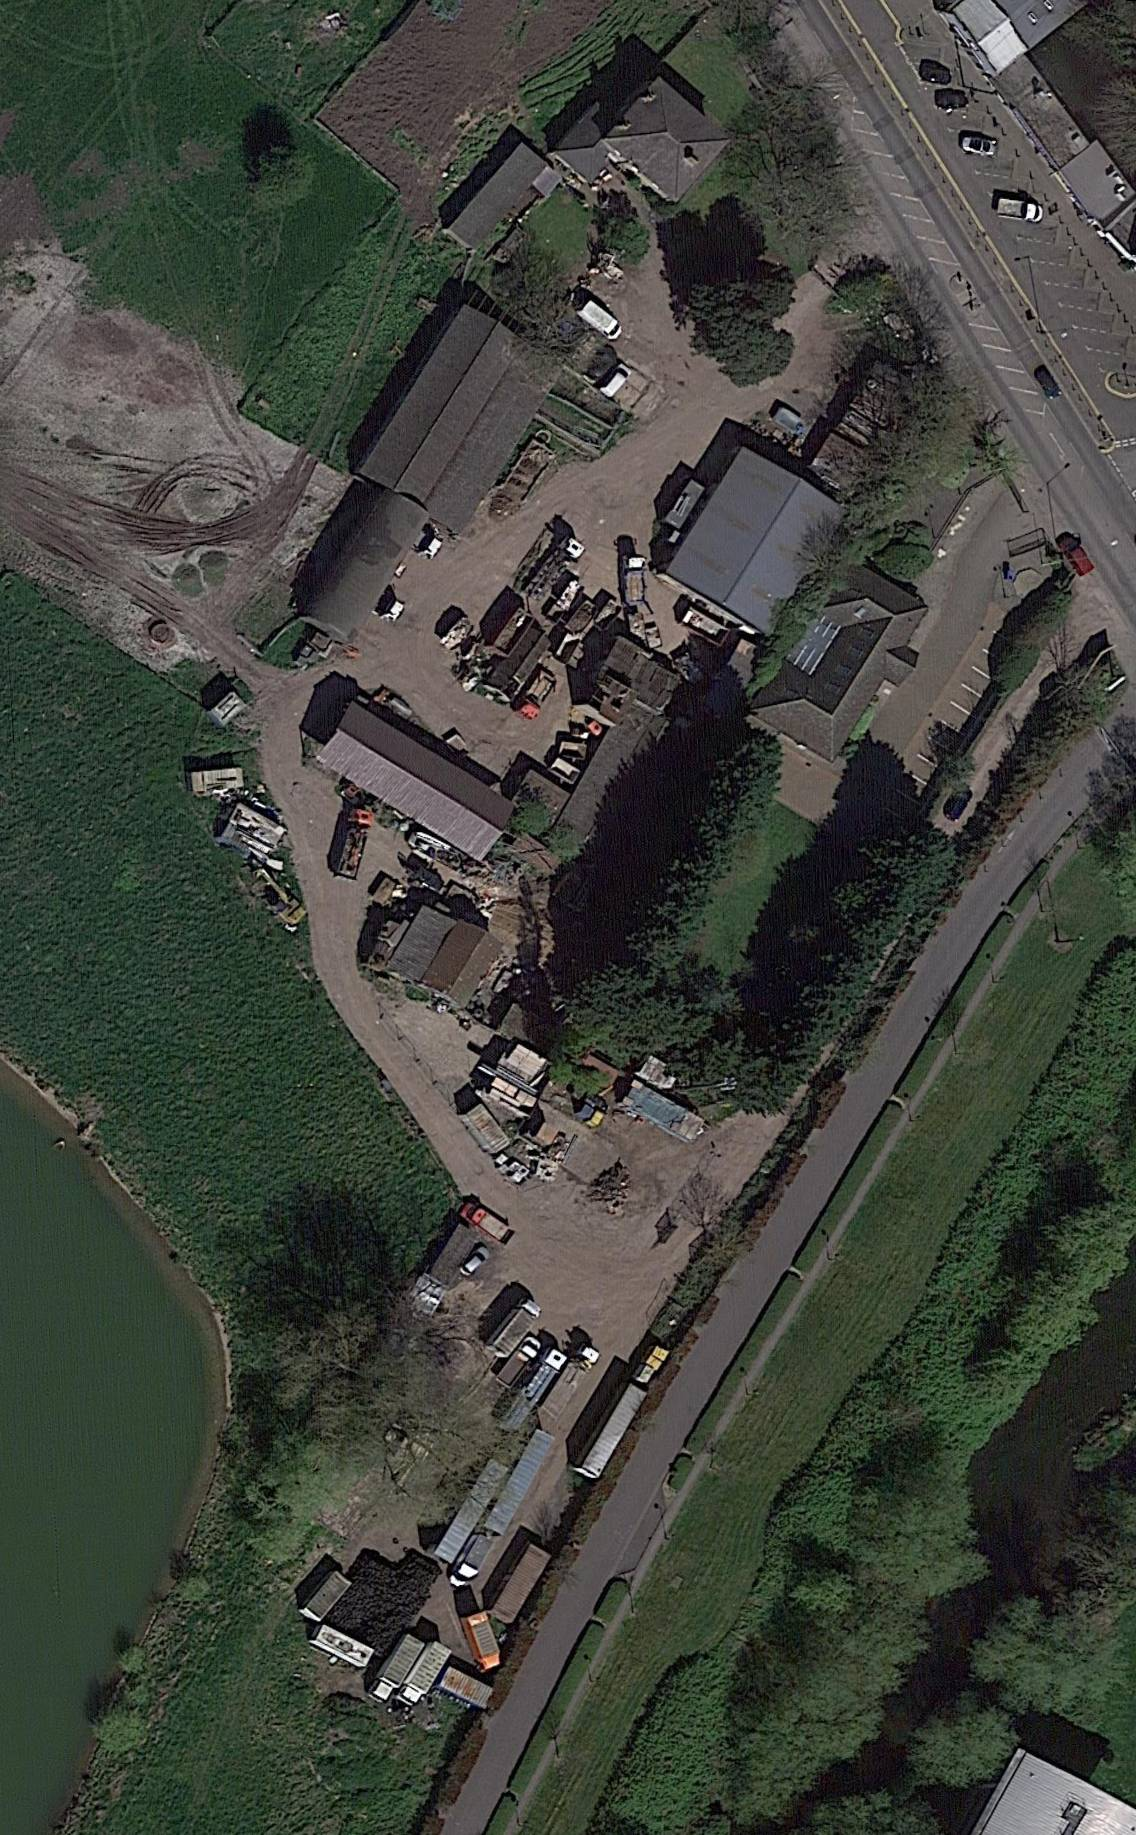large vehicle: (493, 1342, 571, 1439), (537, 1338, 604, 1427), (364, 1631, 428, 1709), (520, 535, 588, 607), (393, 1637, 455, 1714), (483, 1294, 544, 1365), (446, 1530, 498, 1595), (333, 807, 376, 884), (492, 1334, 544, 1393), (460, 1609, 504, 1678), (458, 1200, 518, 1250), (511, 667, 559, 725), (572, 296, 626, 347), (622, 555, 647, 607), (997, 195, 1042, 223)
small vehicle: (597, 361, 634, 401), (962, 136, 996, 157)
